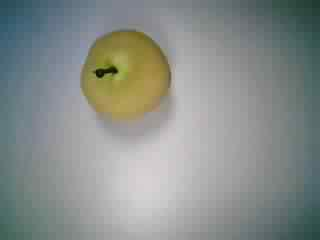pear: (70, 22, 176, 130)
